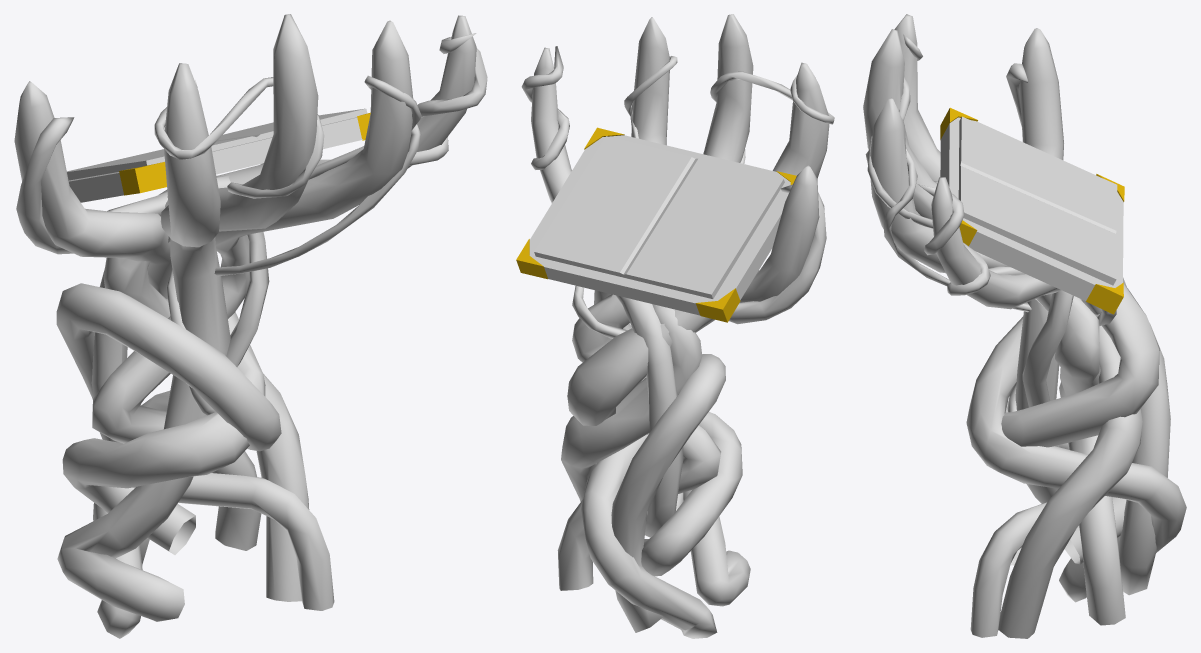
The model's file is enchant.fbx.
3 views of the same model, side by side, from view 1: azimuth 30°, elevation 25°; view 2: azimuth 150°, elevation 25°; view 3: azimuth 270°, elevation 25° (orthographic). The views are drawn at different scales.
Parts seen in each view (by area): view 1: BézierCurve.002, Cube, Cube.008, Cube.006; view 2: BézierCurve.002, Cube.008, Cube, Cube.006; view 3: BézierCurve.002, Cube.008, Cube, Cube.006.
Boxes of the visible parts, x1,y1,x2,y2 form: BézierCurve.002: (14, 14, 487, 638); Cube: (68, 117, 363, 202); Cube.008: (67, 108, 367, 180); Cube.006: (119, 112, 370, 195); BézierCurve.002: (521, 14, 834, 638); Cube.008: (534, 136, 784, 298); Cube: (529, 135, 790, 315); Cube.006: (516, 127, 796, 322); BézierCurve.002: (863, 14, 1186, 638); Cube.008: (958, 116, 1117, 285); Cube: (940, 117, 1123, 300); Cube.006: (940, 107, 1124, 314).
Bounding box in the file's own units: 19.55 × 30.8 × 15.14.
